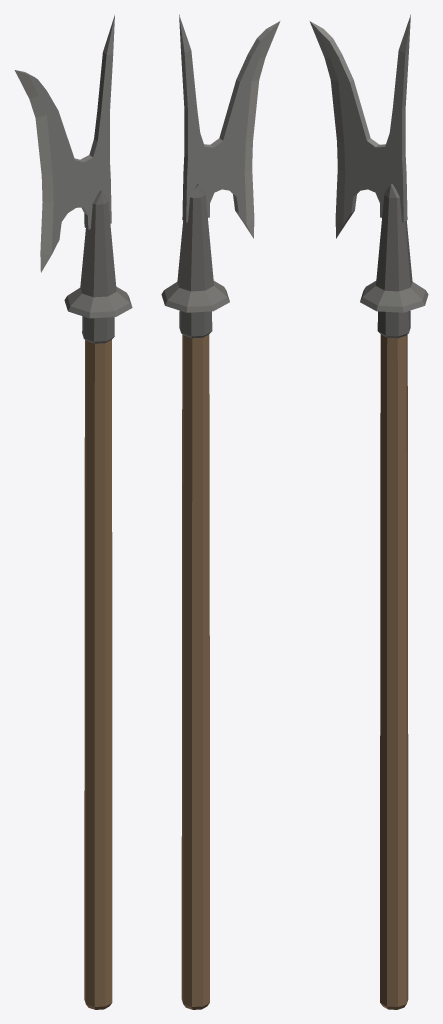
The model's file is SM_pwe_medieval_halberd_12.fbx.
The picture shows the model from 3 angles, left to right: view 1: azimuth 30°, elevation 25°; view 2: azimuth 210°, elevation 25°; view 3: azimuth 330°, elevation 25°; orthographic projection.
Parts seen in each view (by area): view 1: SM_pwe_medieval_halberd_12; view 2: SM_pwe_medieval_halberd_12; view 3: SM_pwe_medieval_halberd_12.
Part boxes in pixels (x1,y1,x2,y2): SM_pwe_medieval_halberd_12: [14, 15, 132, 1009]; SM_pwe_medieval_halberd_12: [161, 14, 280, 1009]; SM_pwe_medieval_halberd_12: [309, 14, 428, 1009].
Size of the model in its own units: 20.54 by 170 by 10.94.
